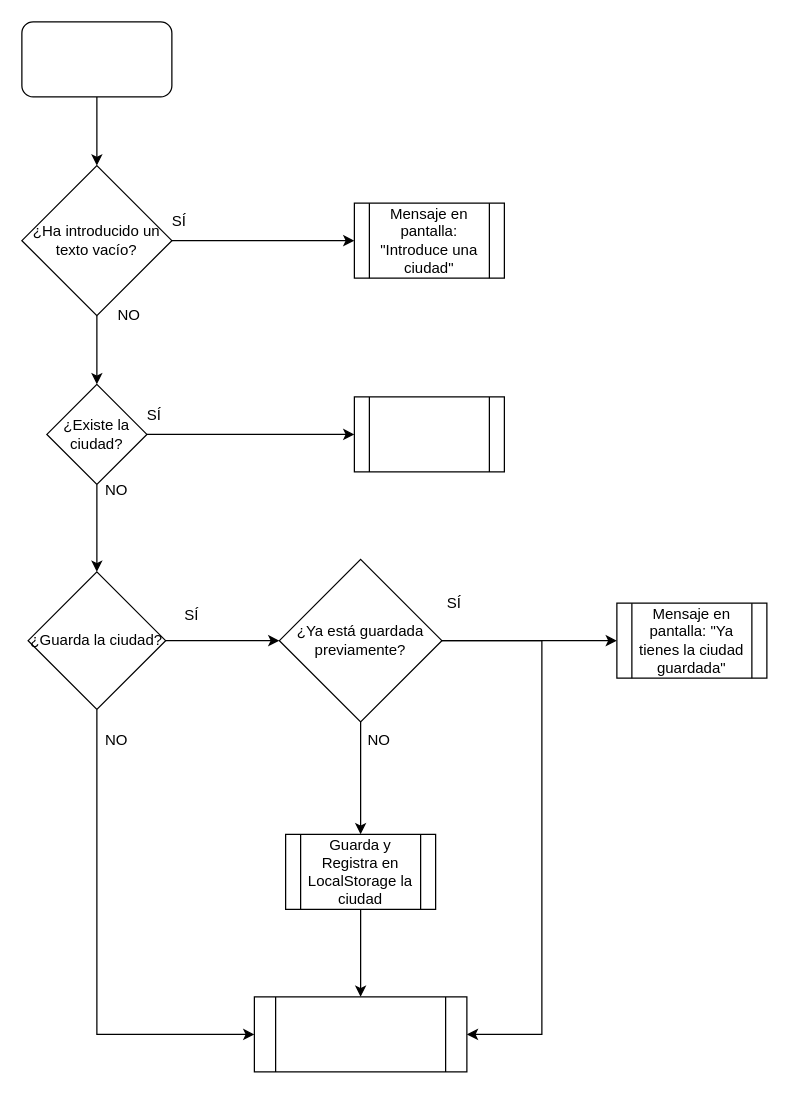
This 789x1094 diagram has some shape labels left out. The shapes that lost their labels are listed below. From the top down, each one's centre as x and y in pixels, then its label:
(x=96, y=59): Escribe una ciudad
(x=428, y=434): Mensaje en pantalla: "Ya está guardada esta ciudad"
(x=360, y=1034): Dibuja la información del clima de la ciudad
